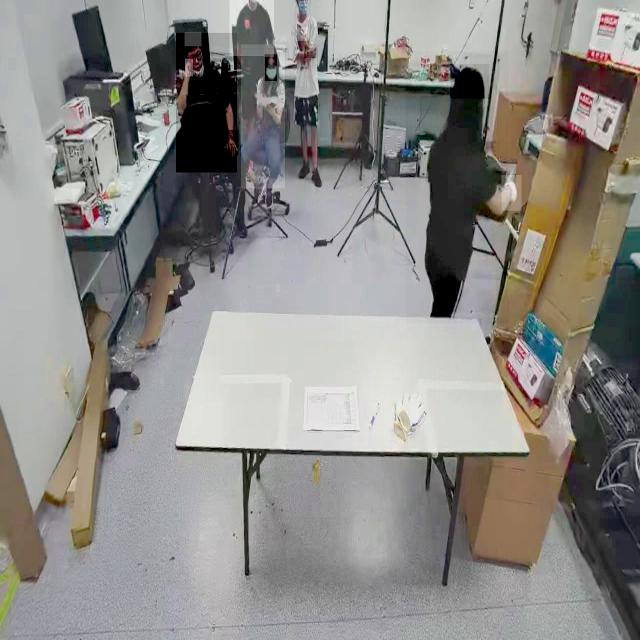face_mask: (295, 0, 311, 22), (265, 54, 277, 82)
face_nomask: (188, 50, 203, 74)
hand_glove: (501, 175, 521, 212)
hand_noglove: (226, 130, 238, 156), (304, 44, 318, 59), (296, 28, 308, 42), (185, 59, 193, 77)
head_nohelmet: (449, 64, 489, 100), (184, 32, 202, 47), (263, 42, 277, 57)
person: (405, 51, 509, 324), (175, 33, 237, 173), (241, 44, 285, 190), (289, 0, 322, 181), (229, 0, 274, 57)
shoes: (249, 173, 267, 209), (264, 174, 276, 212), (310, 163, 324, 191), (298, 159, 310, 184)
